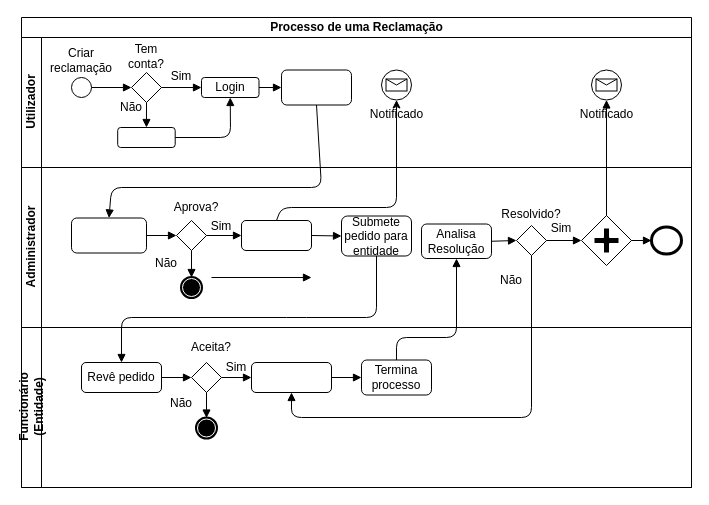
This 709x505 diagram has some shape labels left out. Here are the shapes that lost their labels. From the top down, the centre of each, then its label:
(316,87): Pedido de reclamação
(146,137): Registar
(108,235): Analisa pedido
(276,235): Aprovado
(291,377): Inicia resolução
